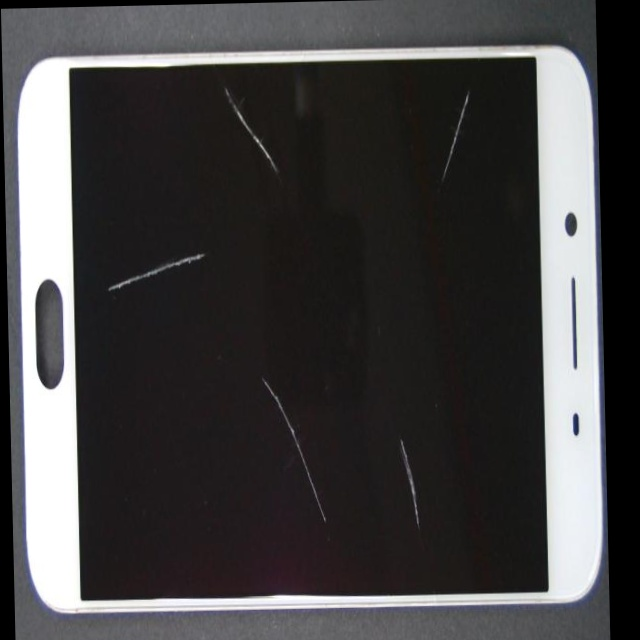scratch: (244, 318, 611, 640), (203, 314, 458, 640), (247, 10, 599, 159), (143, 139, 419, 241), (165, 97, 266, 361)
